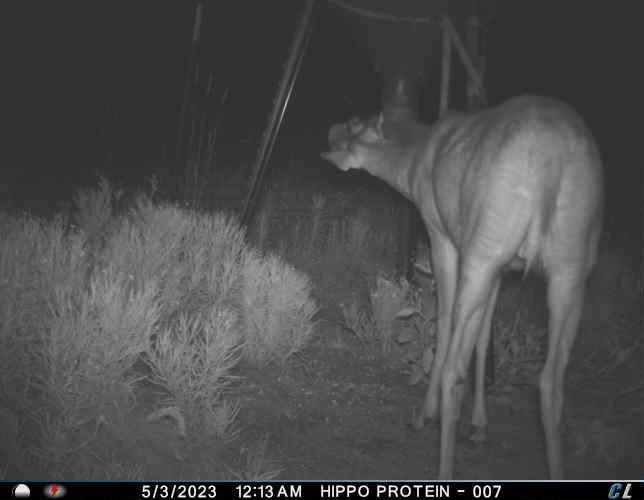Deer: (316, 91, 611, 483)
